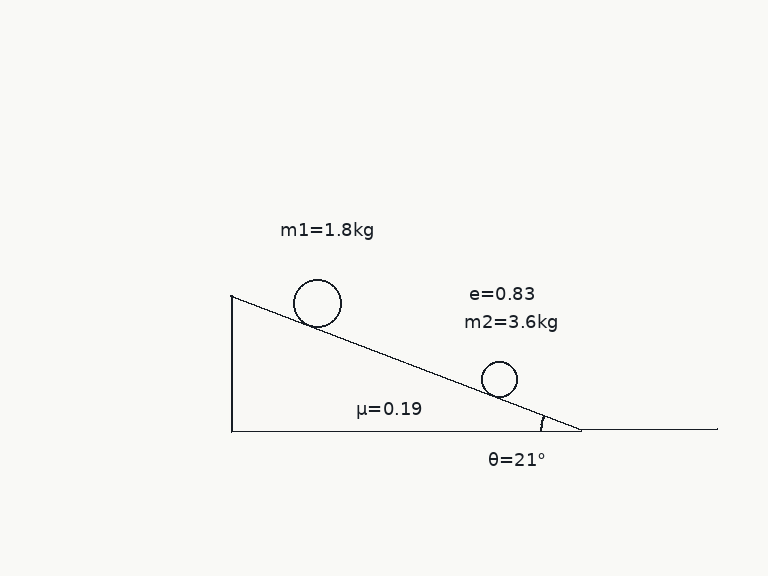ball: (291, 277, 343, 329), (479, 359, 519, 399)
ramp: (228, 293, 583, 432)
